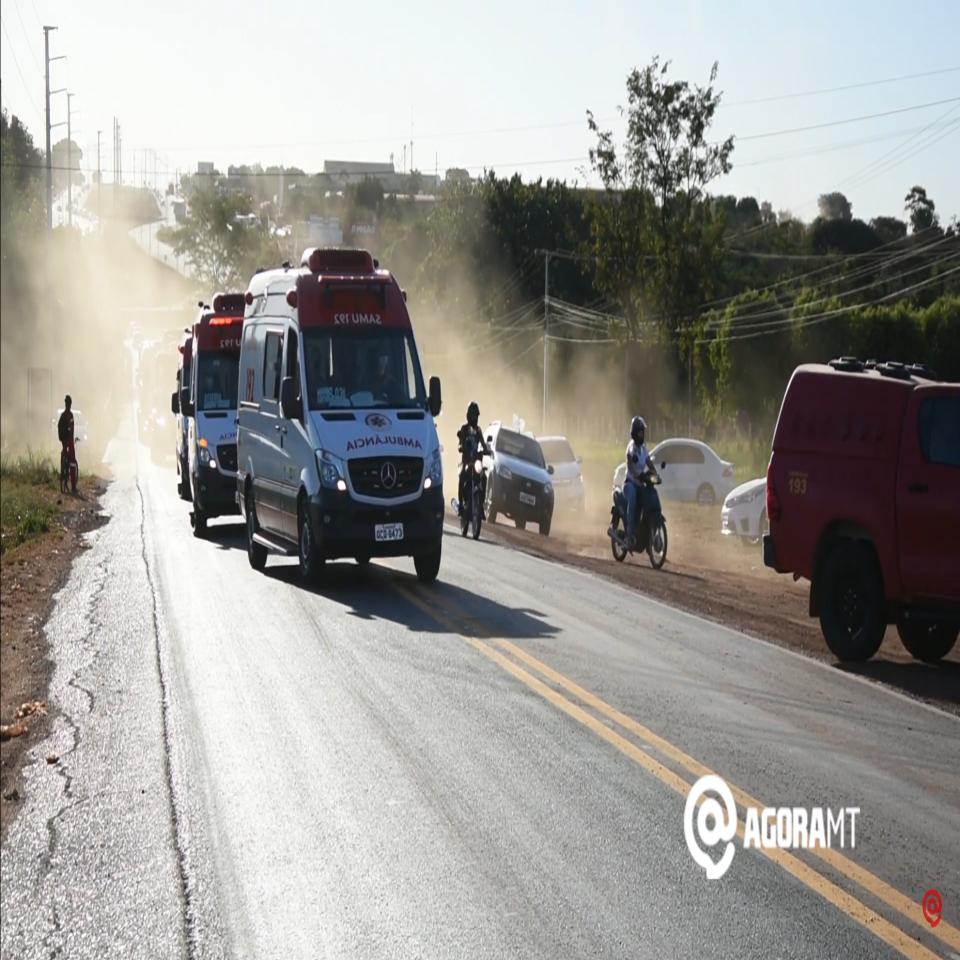bombeiro: (233, 241, 449, 590), (180, 290, 246, 532)
